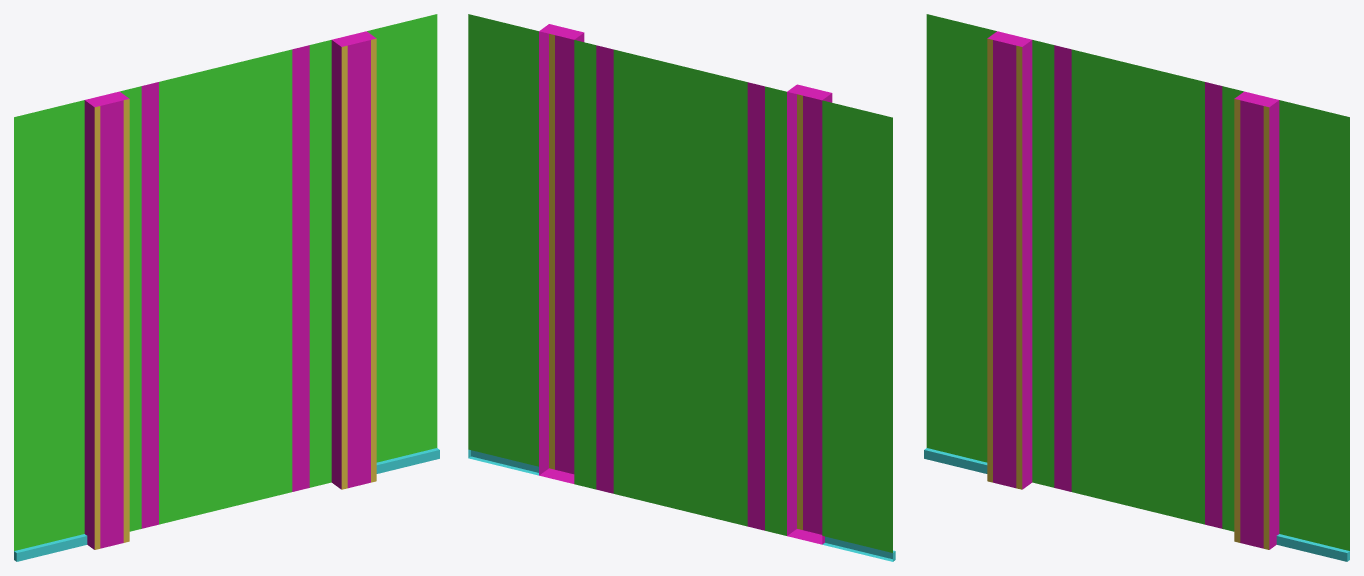
Rendered from Wall_50_D.fbx.
3 views of the same model, side by side, from view 1: azimuth 30°, elevation 25°; view 2: azimuth 150°, elevation 25°; view 3: azimuth 330°, elevation 25° (orthographic).
Parts seen in each view (by area): view 1: Wall_50_D; view 2: Wall_50_D; view 3: Wall_50_D.
Part boxes in pixels (x1,y1,x2,y2): Wall_50_D: (14, 14, 439, 561); Wall_50_D: (468, 14, 895, 561); Wall_50_D: (924, 14, 1349, 561).
Bounding box in the file's own units: 457 × 457 × 18.74.
